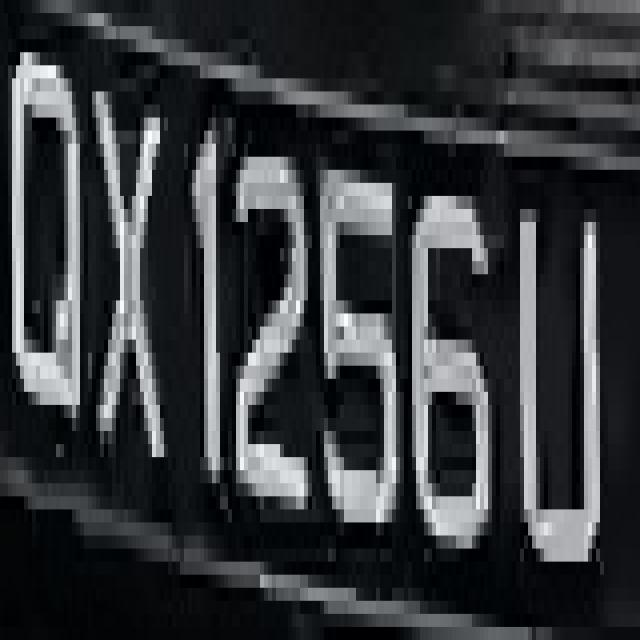1: (188, 66, 236, 536)
2: (224, 104, 320, 588)
5: (304, 104, 404, 548)
6: (396, 118, 496, 562)
Q: (0, 26, 92, 444)
U: (512, 131, 612, 627)
X: (84, 26, 168, 470)
